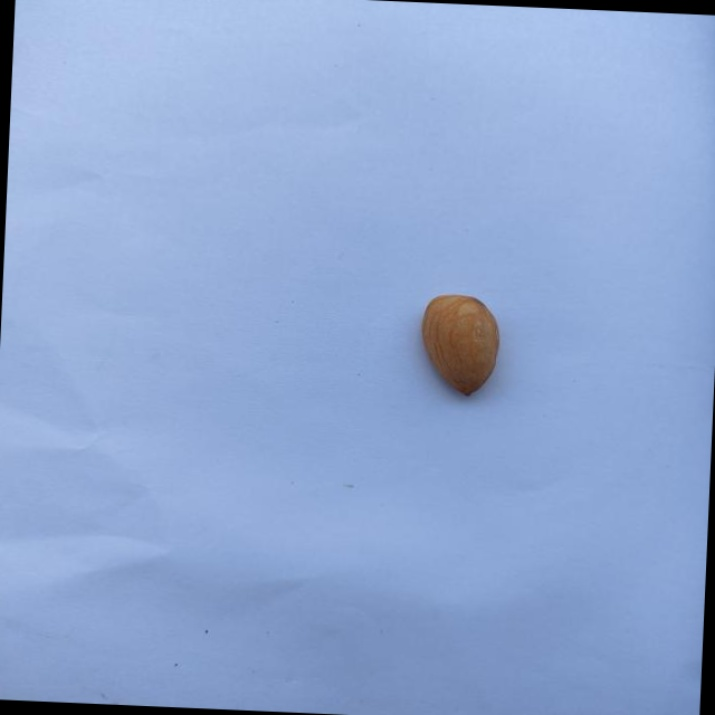grade2: (411, 290, 505, 401)
